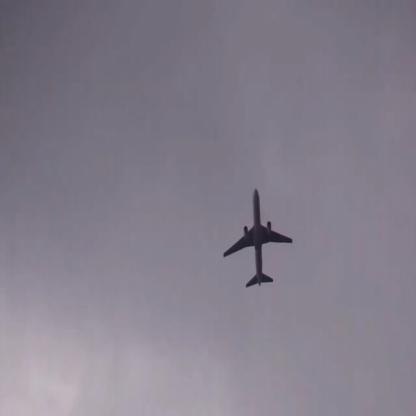CIV_Plane: (222, 188, 292, 287)
